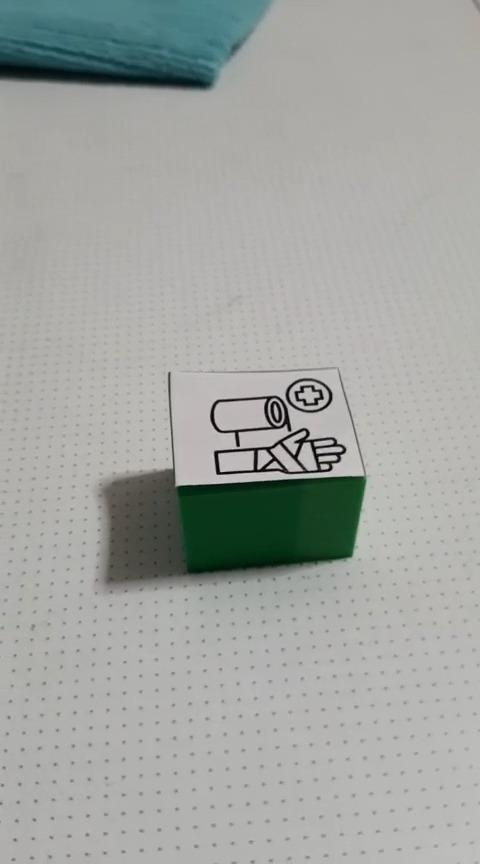Bandages: (167, 365, 366, 573), (0, 0, 273, 88)
